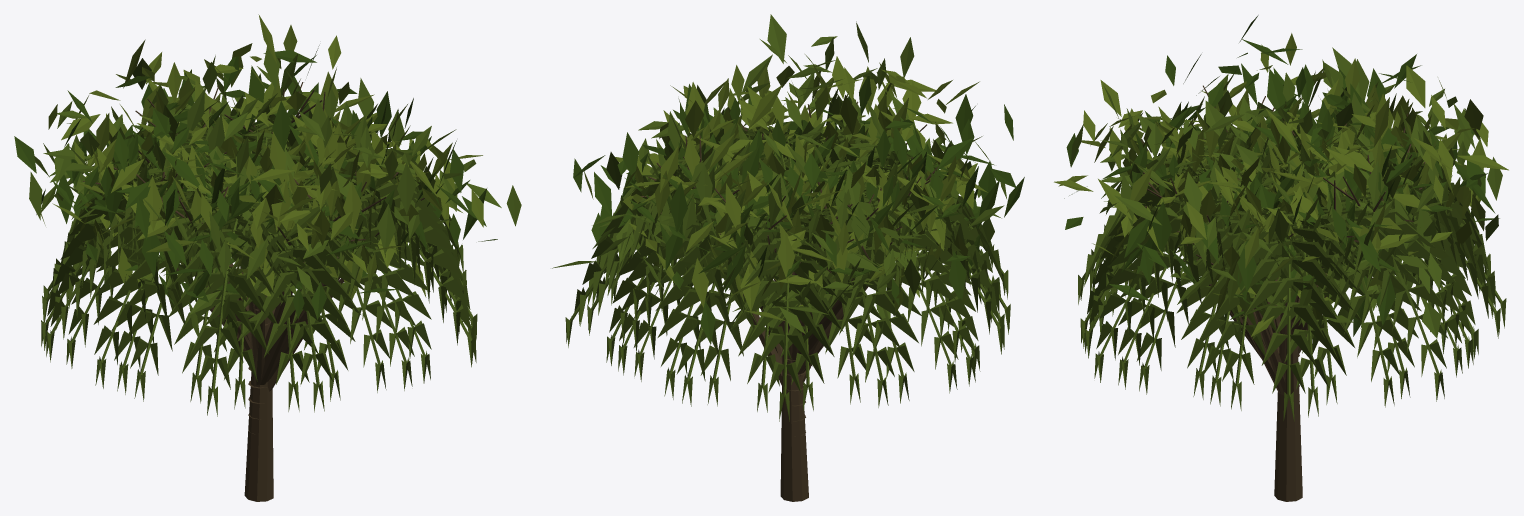
File: vegetation-low.glb
3 views of the same model, side by side, from view 1: azimuth 30°, elevation 25°; view 2: azimuth 150°, elevation 25°; view 3: azimuth 270°, elevation 25° (orthographic). The views are drawn at different scales.
Parts seen in each view (by area): view 1: palm-1-palm.001, dense-2-leaf2.001, palm-0-palm.001, palm-2-palm.001, dense-1-leaf1.001, trimmed-2-leaf2.001, dense-0-leaf0.001, trimmed-1-leaf1.001, trimmed-0-leaf0.001, trimmed-1-bark.001, trimmed-2-bark.001, pruned-1-bark.001 (+2 smaller); view 2: dense-2-leaf2.001, palm-1-palm.001, palm-0-palm.001, palm-2-palm.001, dense-1-leaf1.001, dense-0-leaf0.001, trimmed-2-leaf2.001, trimmed-1-leaf1.001, trimmed-0-leaf0.001, pruned-1-bark.001, trimmed-2-bark.001, trimmed-0-bark.001 (+1 smaller); view 3: dense-2-leaf2.001, palm-0-palm.001, palm-1-palm.001, palm-2-palm.001, dense-1-leaf1.001, trimmed-0-leaf0.001, trimmed-1-leaf1.001, trimmed-2-leaf2.001, dense-0-leaf0.001, pruned-1-bark.001, trimmed-2-bark.001, trimmed-1-bark.001 (+2 smaller).
Part boxes in pixels (box(x1,y1,x2,y2)): palm-1-palm.001: box(43, 118, 475, 416); dense-2-leaf2.001: box(48, 14, 483, 296); palm-0-palm.001: box(41, 120, 476, 411); palm-2-palm.001: box(42, 114, 477, 409); dense-1-leaf1.001: box(34, 46, 456, 341); trimmed-2-leaf2.001: box(41, 39, 482, 302); dense-0-leaf0.001: box(52, 50, 486, 324); trimmed-1-leaf1.001: box(29, 69, 521, 338); trimmed-0-leaf0.001: box(14, 45, 497, 290); trimmed-1-bark.001: box(113, 167, 424, 501); trimmed-2-bark.001: box(159, 171, 356, 501); pruned-1-bark.001: box(138, 82, 339, 499); dense-2-leaf2.001: box(583, 56, 979, 310); palm-1-palm.001: box(587, 127, 1008, 421); palm-0-palm.001: box(578, 126, 1004, 412); palm-2-palm.001: box(565, 128, 1010, 411); dense-1-leaf1.001: box(552, 14, 1006, 341); dense-0-leaf0.001: box(573, 98, 1024, 321); trimmed-2-leaf2.001: box(622, 64, 987, 320); trimmed-1-leaf1.001: box(592, 21, 1001, 334); trimmed-0-leaf0.001: box(621, 76, 1013, 344); pruned-1-bark.001: box(656, 140, 852, 501); trimmed-2-bark.001: box(762, 124, 930, 501); trimmed-0-bark.001: box(743, 166, 938, 498); dense-2-leaf2.001: box(1054, 58, 1508, 336); palm-0-palm.001: box(1089, 126, 1500, 421); palm-1-palm.001: box(1078, 133, 1506, 417); palm-2-palm.001: box(1084, 126, 1493, 410); dense-1-leaf1.001: box(1099, 59, 1498, 353); trimmed-0-leaf0.001: box(1109, 15, 1499, 320); trimmed-1-leaf1.001: box(1070, 47, 1502, 322); trimmed-2-leaf2.001: box(1083, 33, 1485, 328); dense-0-leaf0.001: box(1064, 65, 1495, 336); pruned-1-bark.001: box(1241, 175, 1385, 501); trimmed-2-bark.001: box(1141, 96, 1325, 500); trimmed-1-bark.001: box(1142, 152, 1372, 499).
Size of the model in its own units: 1.08 by 1.12 by 1.09.
